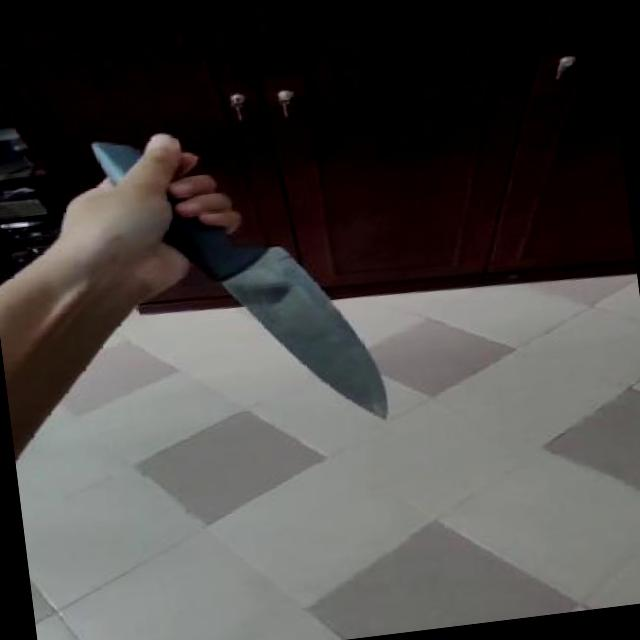knife: (200, 228, 414, 447)
